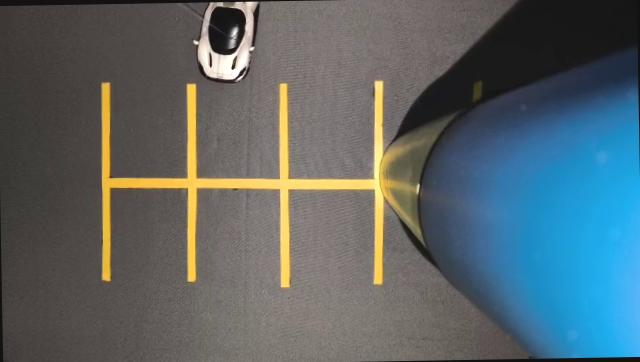toy_car: (182, 0, 304, 107)
